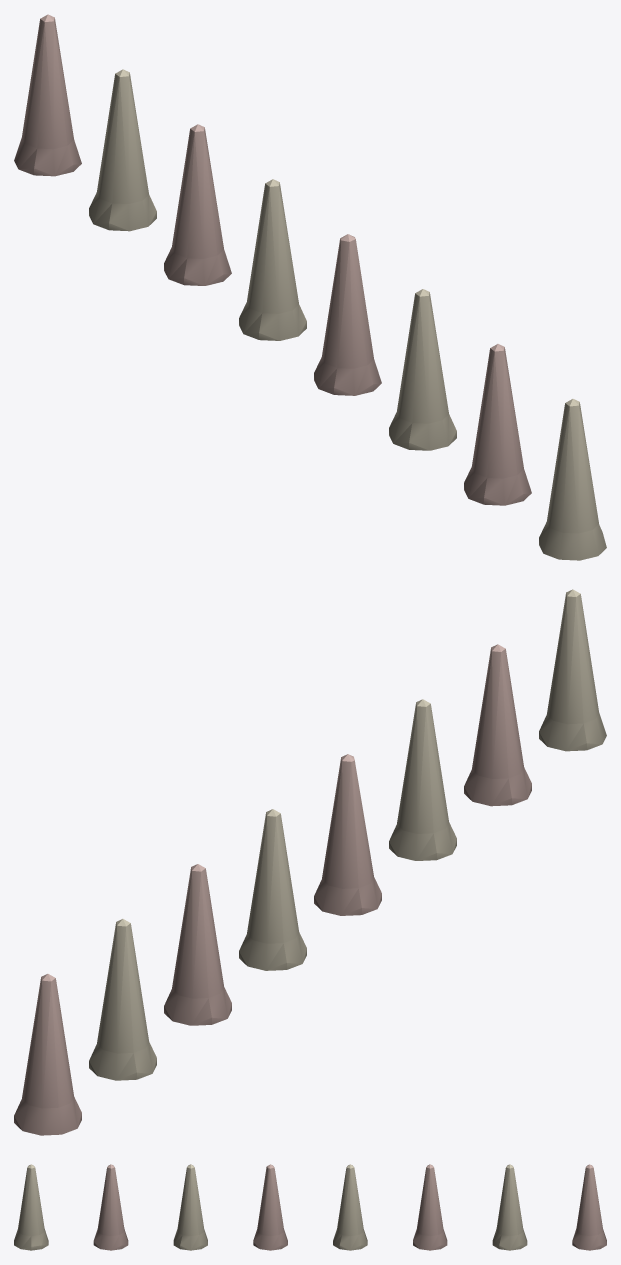
Rendered from cones.lod1.glb.
The picture shows the model from 3 angles, top to bottom: view 1: azimuth 30°, elevation 25°; view 2: azimuth 150°, elevation 25°; view 3: azimuth 270°, elevation 25°; orthographic projection. The views are drawn at different scales.
Bounding box in the file's own units: 0.26 × 0.62 × 4.24.
